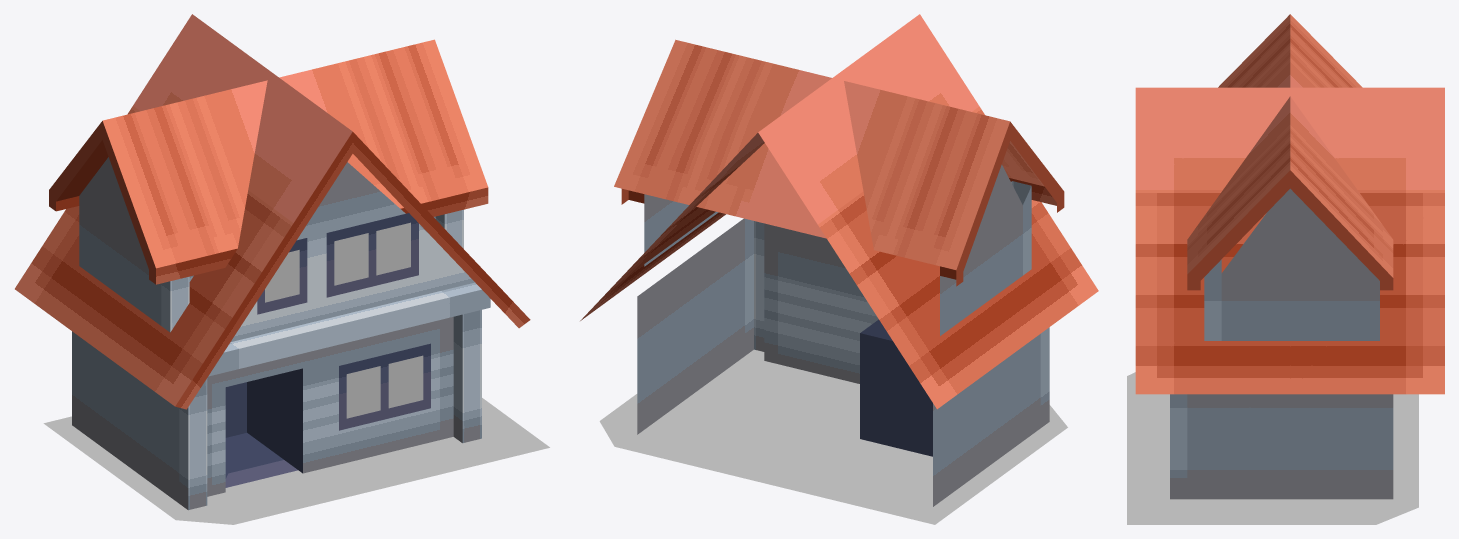
Rendered from PalletHouse.fbx.
3 renders of one model, left to right at view 1: azimuth 30°, elevation 25°; view 2: azimuth 150°, elevation 25°; view 3: azimuth 270°, elevation 25°, orthographic. The views are drawn at different scales.
Parts seen in each view (by area): view 1: Pallet Town House; view 2: Pallet Town House; view 3: Pallet Town House.
Boxes of the visible parts, x1,y1,x2,y2 form: Pallet Town House: (15,14,549,524); Pallet Town House: (580,14,1098,524); Pallet Town House: (1127,14,1444,524).
Size of the model in its own units: 9.6 by 8.9 by 7.4.
